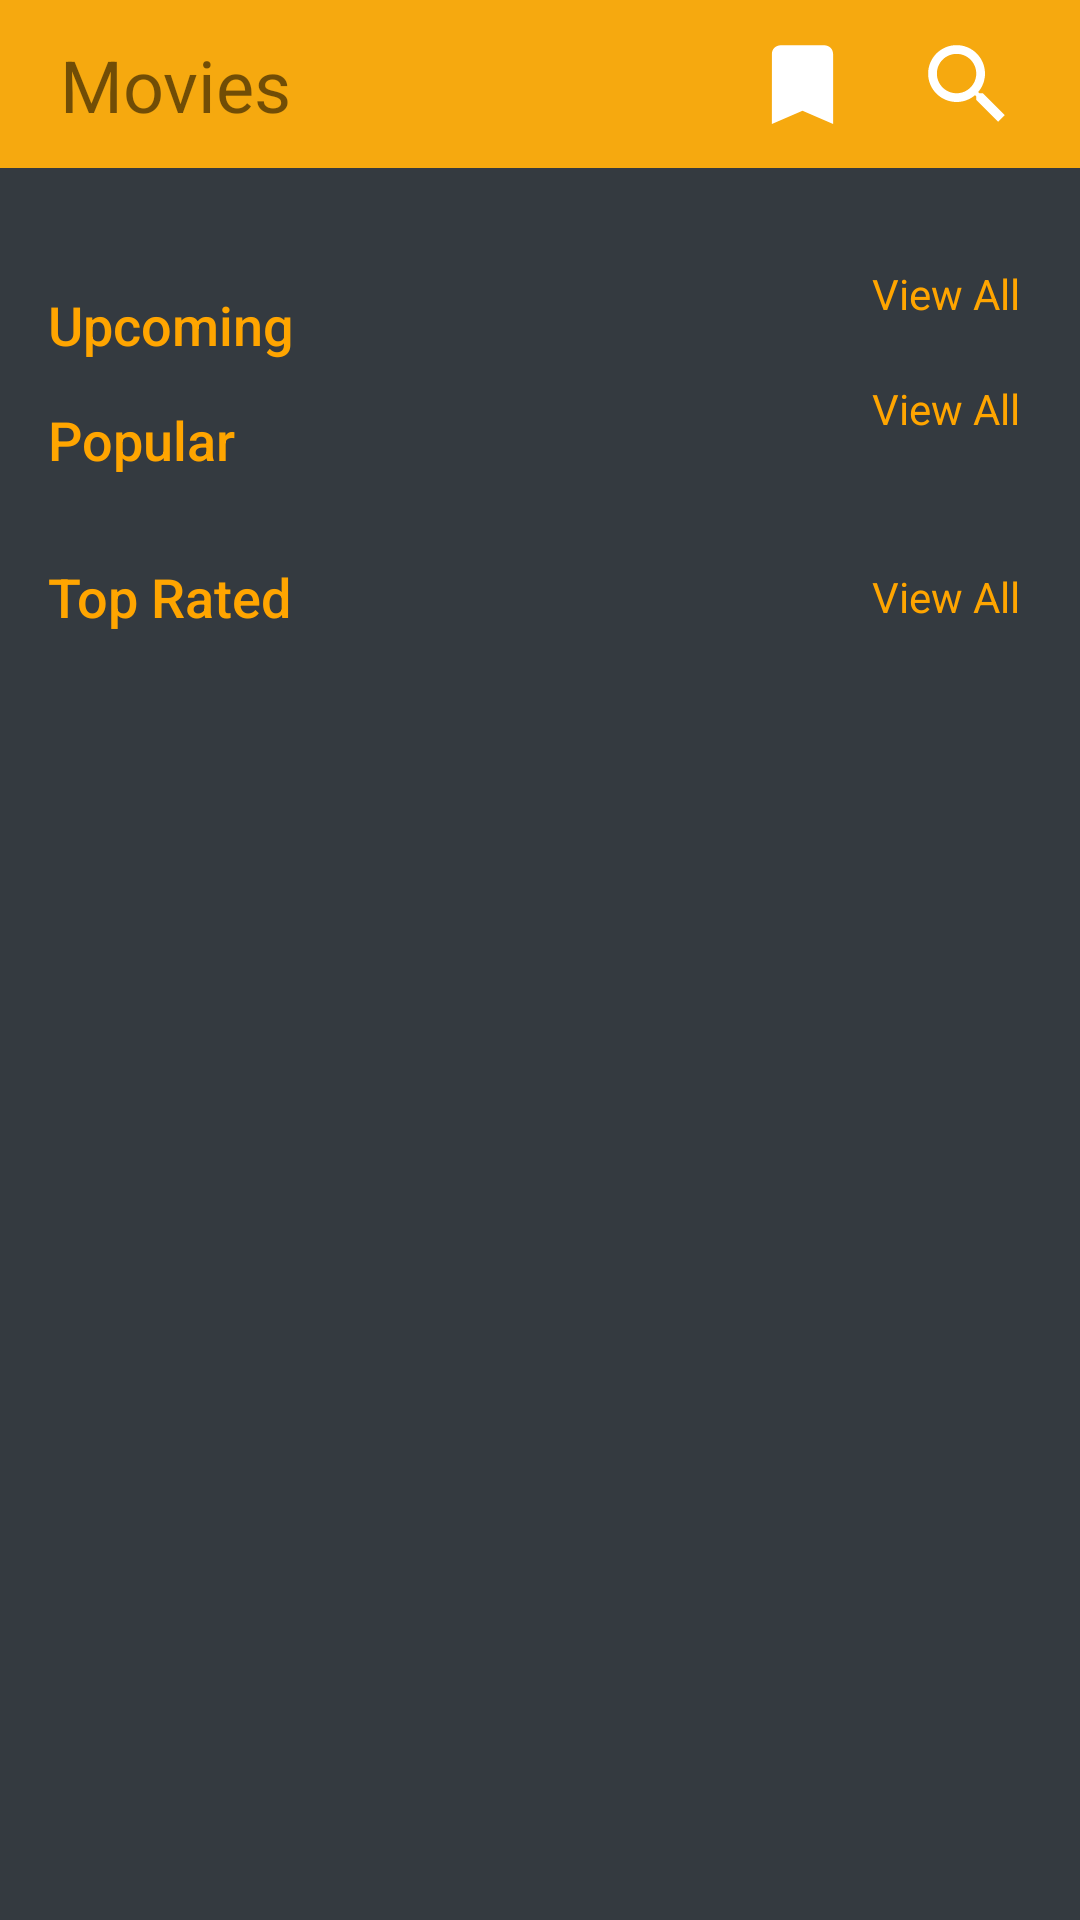

Where icons sit on this 1080×1920 app screen, as {"left": x1, "top": y1, "right": x2, "bottom": y2}:
bookmark: {"left": 771, "top": 45, "right": 834, "bottom": 124}
Search Button: {"left": 928, "top": 45, "right": 1005, "bottom": 122}
